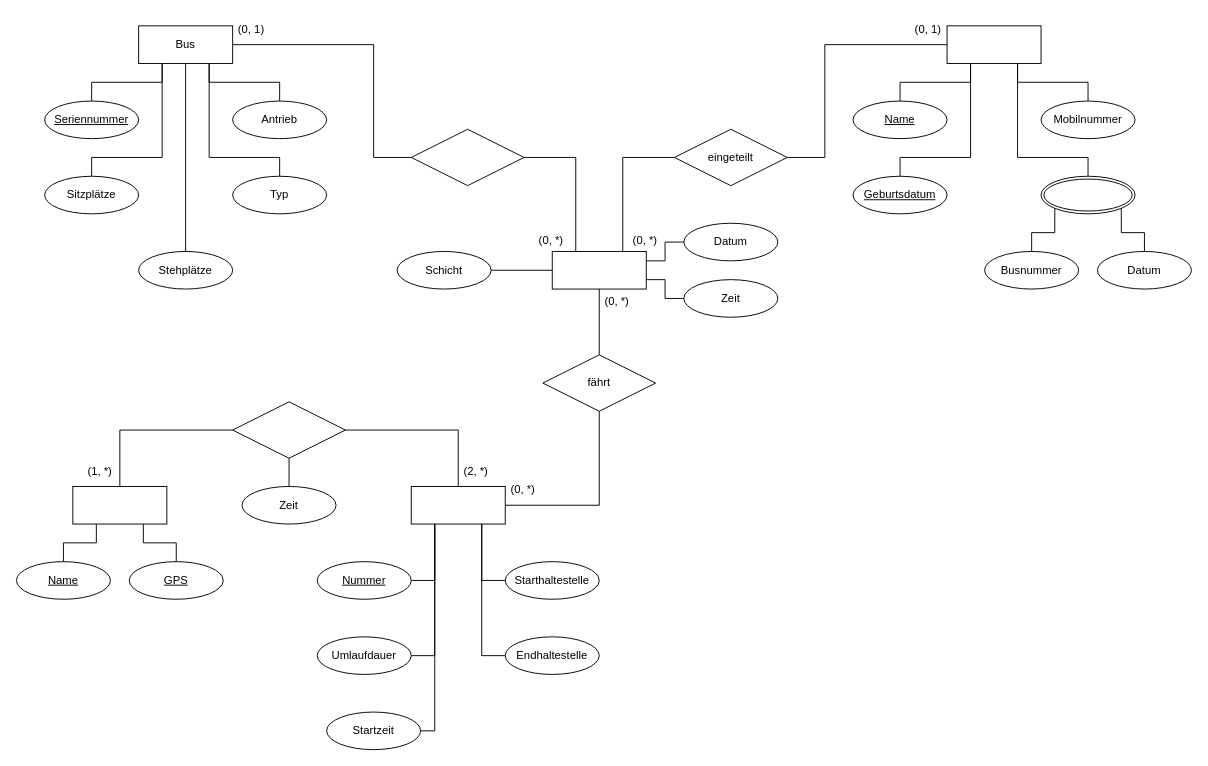
The diagram is 1208 pixels wide and 766 high, and some of its shapes have lost their labels. Here are the shapes that lost their labels. From the top down, the box of each, then its label:
(946, 25, 1041, 63): Fahrer
(410, 128, 524, 186): mit
(1040, 175, 1135, 214): Trainings
(551, 251, 646, 289): Einsatzplan
(232, 401, 345, 458): befährt
(72, 486, 167, 524): Haltestelle
(410, 486, 505, 524): Linie
